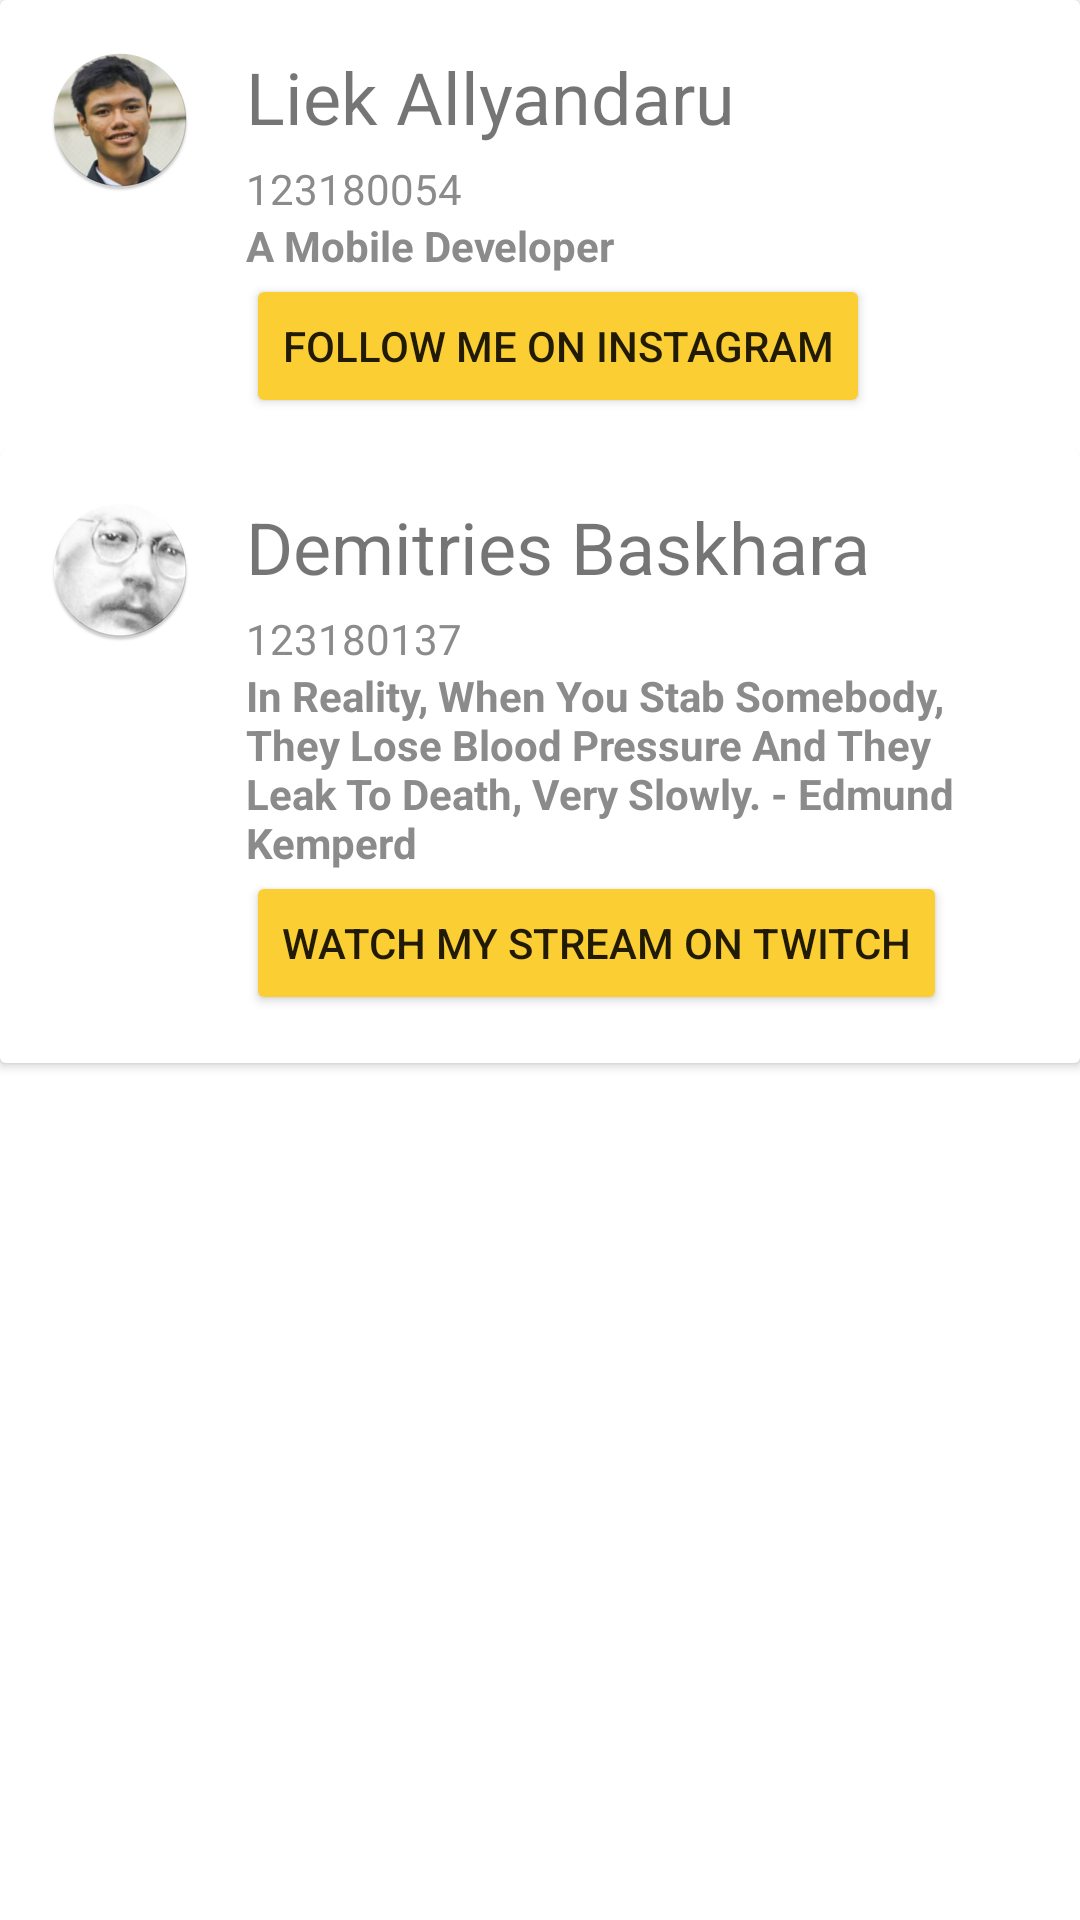

Icons on this 1080 x 1920 Android screen, each with the point to tap as (x=x, y=y):
profile round: (x=120, y=121), (x=120, y=577)
